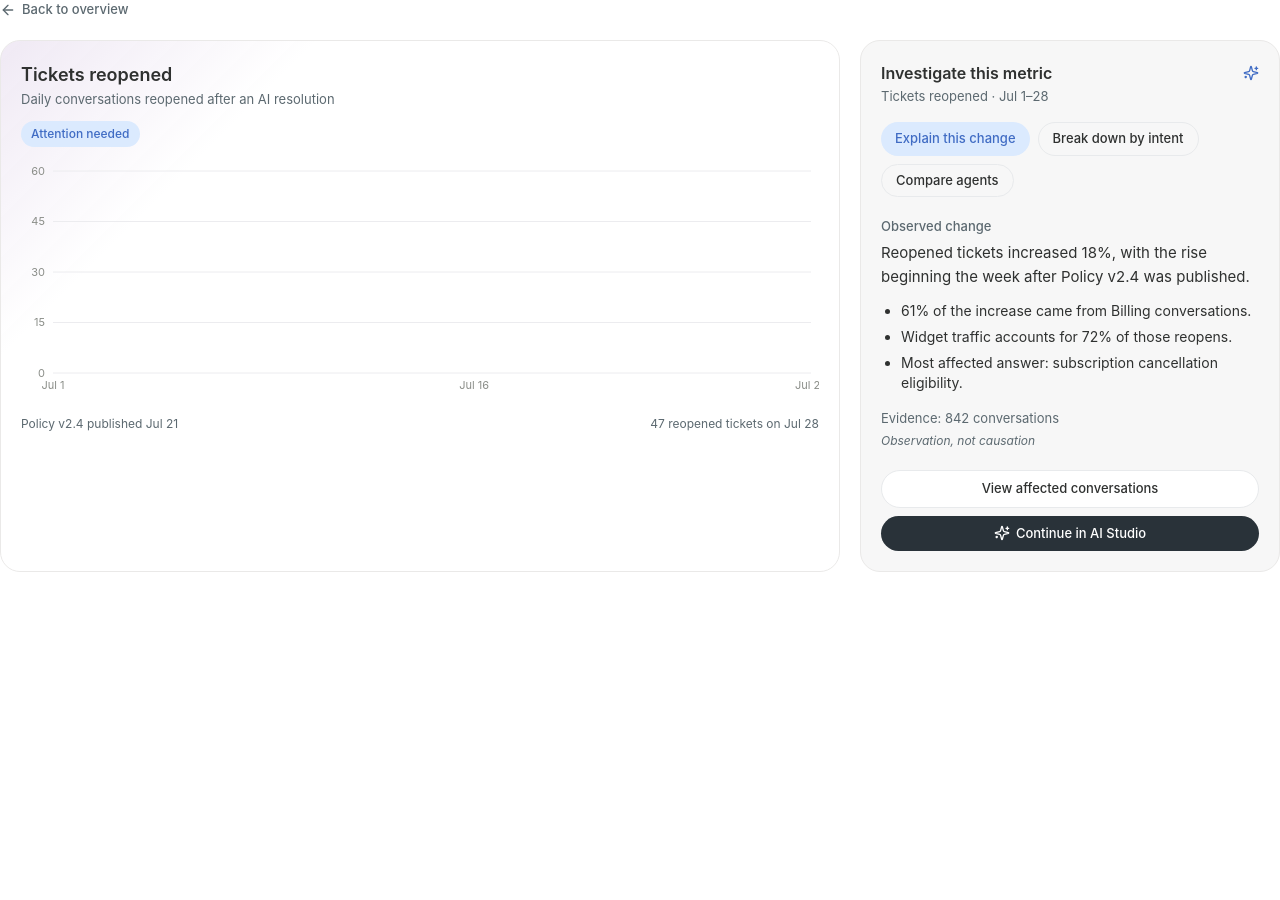
Test: InvestigationWorkspace › Break down by intent opens the full view
Click the button "Break down by intent" at (1118, 139), box [1038,122,1199,156]
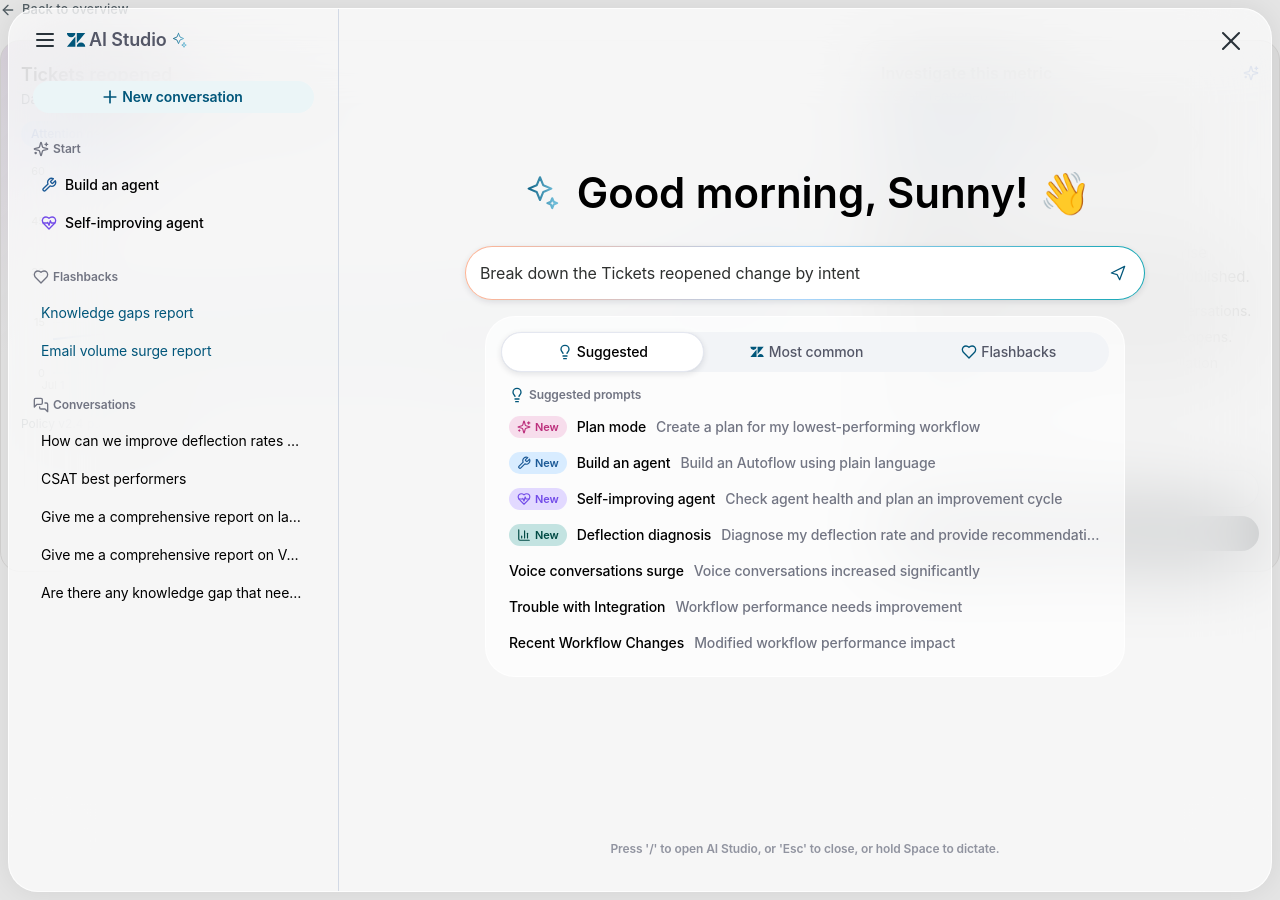
Now the dialog with test id "ai-studio-landing" is shown
